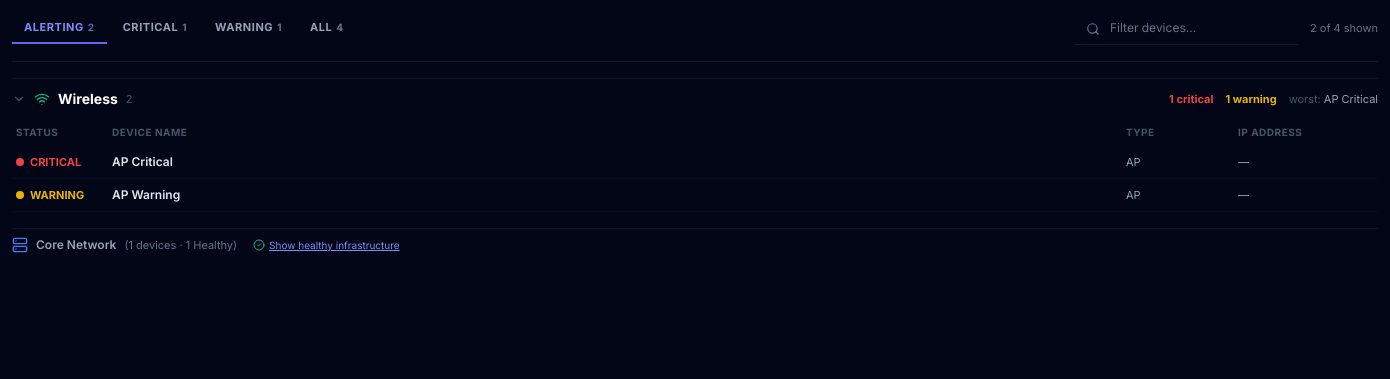
Test case: HostMapView › shows every device under the All filter, grouped by category
The width and height of the screenshot is (1390, 379).
Click the button with test id "hostmap-filter-all" at (327, 29), box [298,13,356,44]
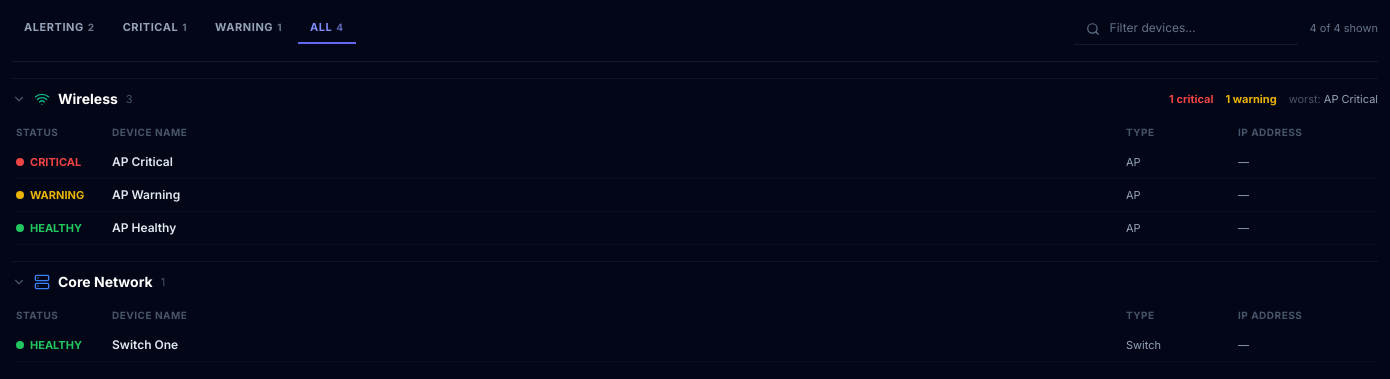
Now the row with test id "hostmap-tile-sw1" is shown, box [12,329,1378,362]
Now the row with test id "hostmap-tile-ap3" is shown, box [12,212,1378,244]
Now the element with test id "hostmap-group-core_network" is shown, box [12,261,1378,362]
